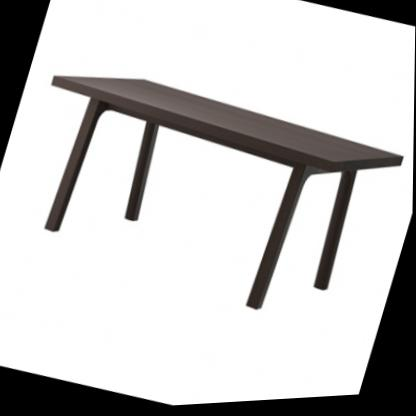Table: (0, 37, 415, 358)
